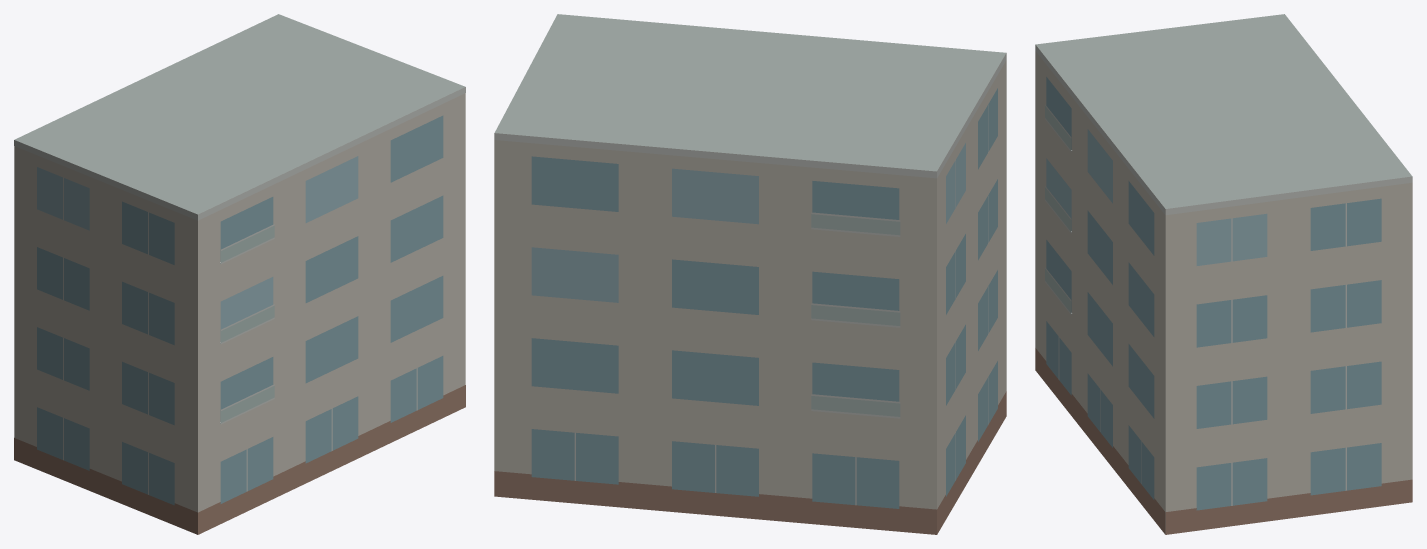
The model's file is survey-upis-33005302.glb.
The picture shows the model from 3 angles, left to right: view 1: azimuth 30°, elevation 25°; view 2: azimuth 150°, elevation 25°; view 3: azimuth 270°, elevation 25°; orthographic projection. The views are drawn at different scales.
Visible parts, largest first — view 1: survey-upis-33005302.tmp; view 2: survey-upis-33005302.tmp; view 3: survey-upis-33005302.tmp.
Boxes of the visible parts, x1,y1,x2,y2 form: survey-upis-33005302.tmp: (14, 14, 465, 534); survey-upis-33005302.tmp: (494, 14, 1006, 534); survey-upis-33005302.tmp: (1035, 14, 1412, 534).
Bounding box in the file's own units: 16.45 × 12.8 × 13.44.
